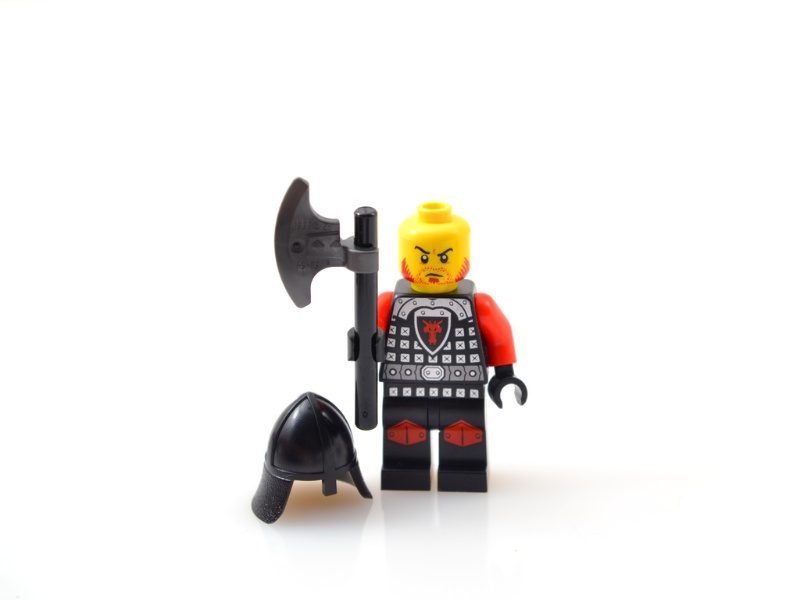axe: (269, 175, 385, 434)
